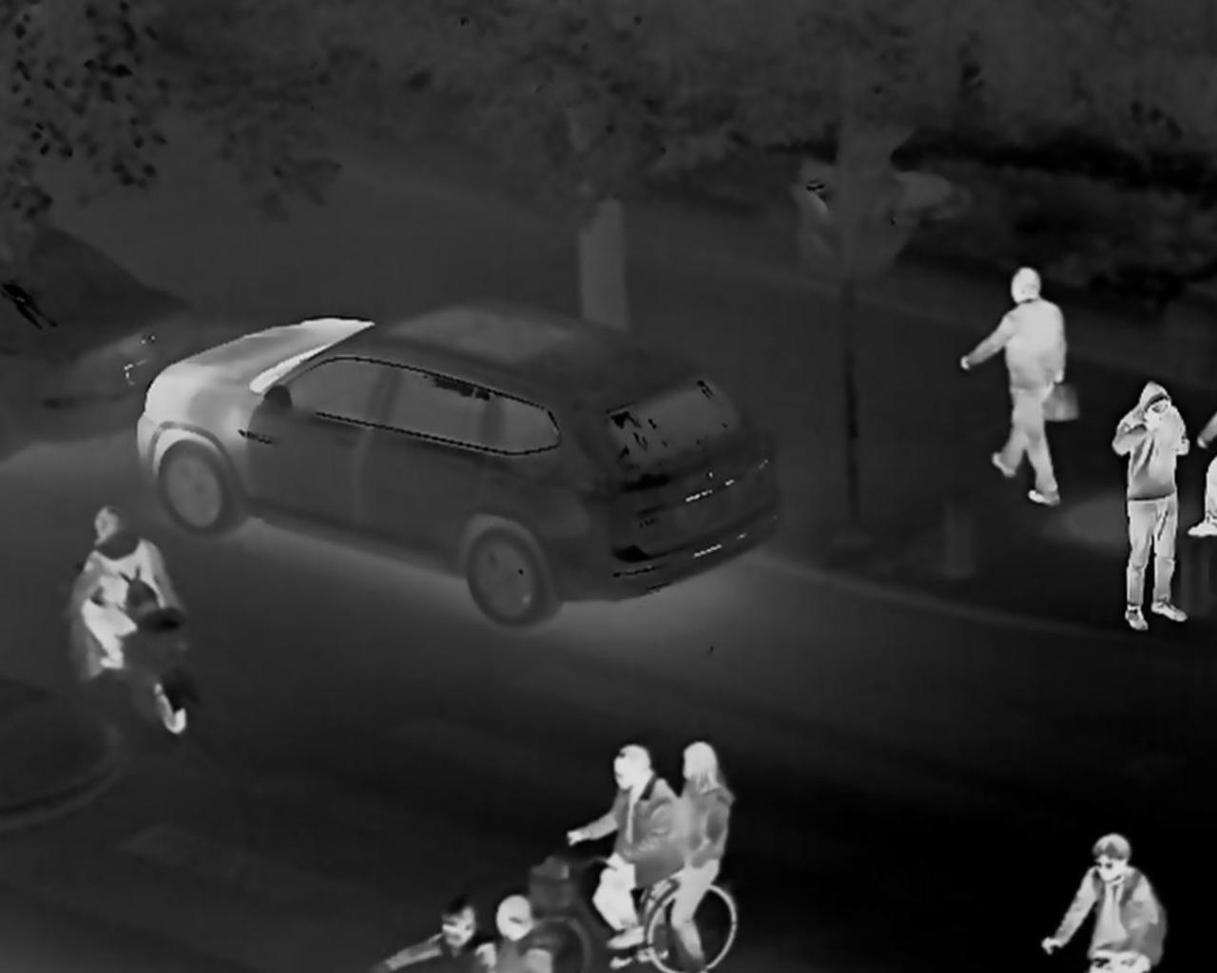person: (948, 261, 1078, 506), (565, 738, 689, 956), (1108, 378, 1202, 637), (1033, 826, 1178, 973), (667, 730, 736, 969), (70, 502, 163, 668), (376, 895, 490, 973), (482, 889, 563, 973)
